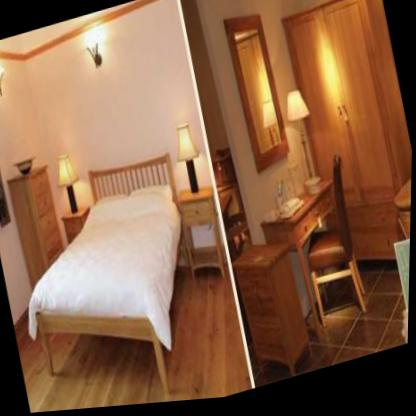Bed: (9, 145, 218, 415)
Chair: (288, 145, 377, 340)
Closet: (273, 0, 416, 303)
Table: (249, 167, 378, 356)
